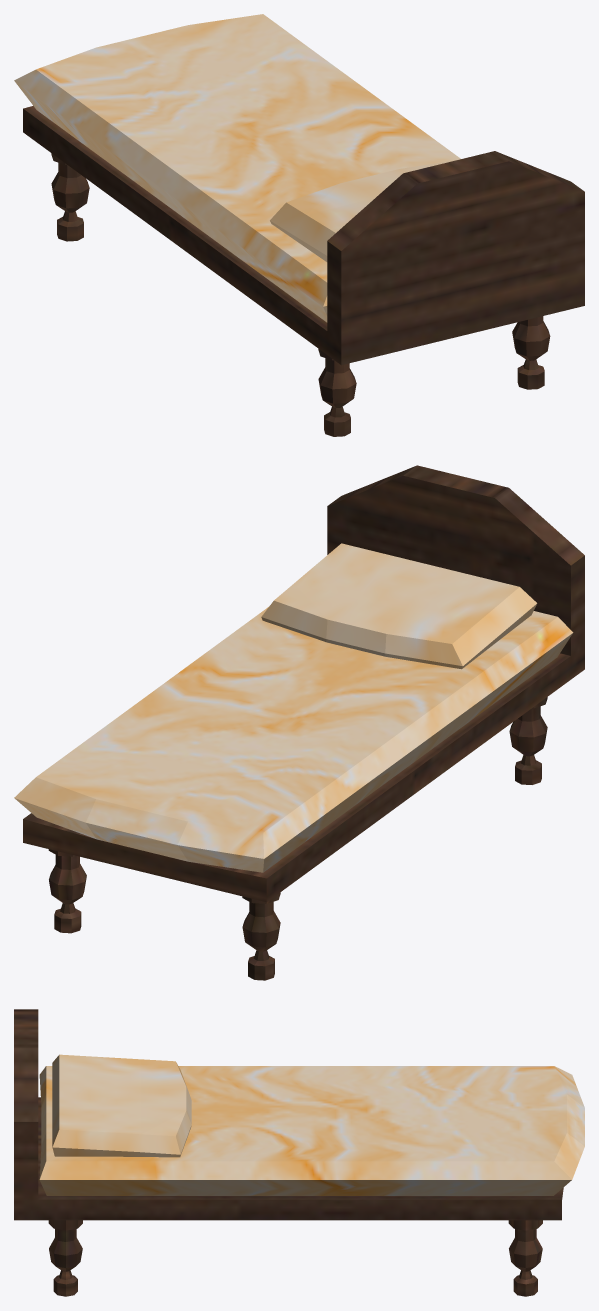
The model's file is Bed1.fbx.
3 renders of one model, top to bottom at view 1: azimuth 30°, elevation 25°; view 2: azimuth 150°, elevation 25°; view 3: azimuth 270°, elevation 25°, orthographic. The views are drawn at different scales.
Visible parts, largest first — view 1: Cube.029; view 2: Cube.029; view 3: Cube.029.
Part boxes in pixels (bbox=[...]): Cube.029: bbox=[14, 14, 584, 436]; Cube.029: bbox=[14, 465, 584, 980]; Cube.029: bbox=[14, 1009, 584, 1296].
Size of the model in its own units: 145 by 142 by 332.
Materials: 1 (1 with a texture image).
